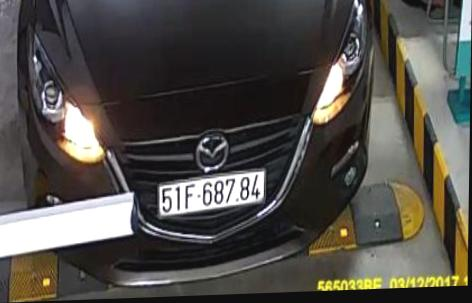License_Plate: (155, 172, 273, 219)
